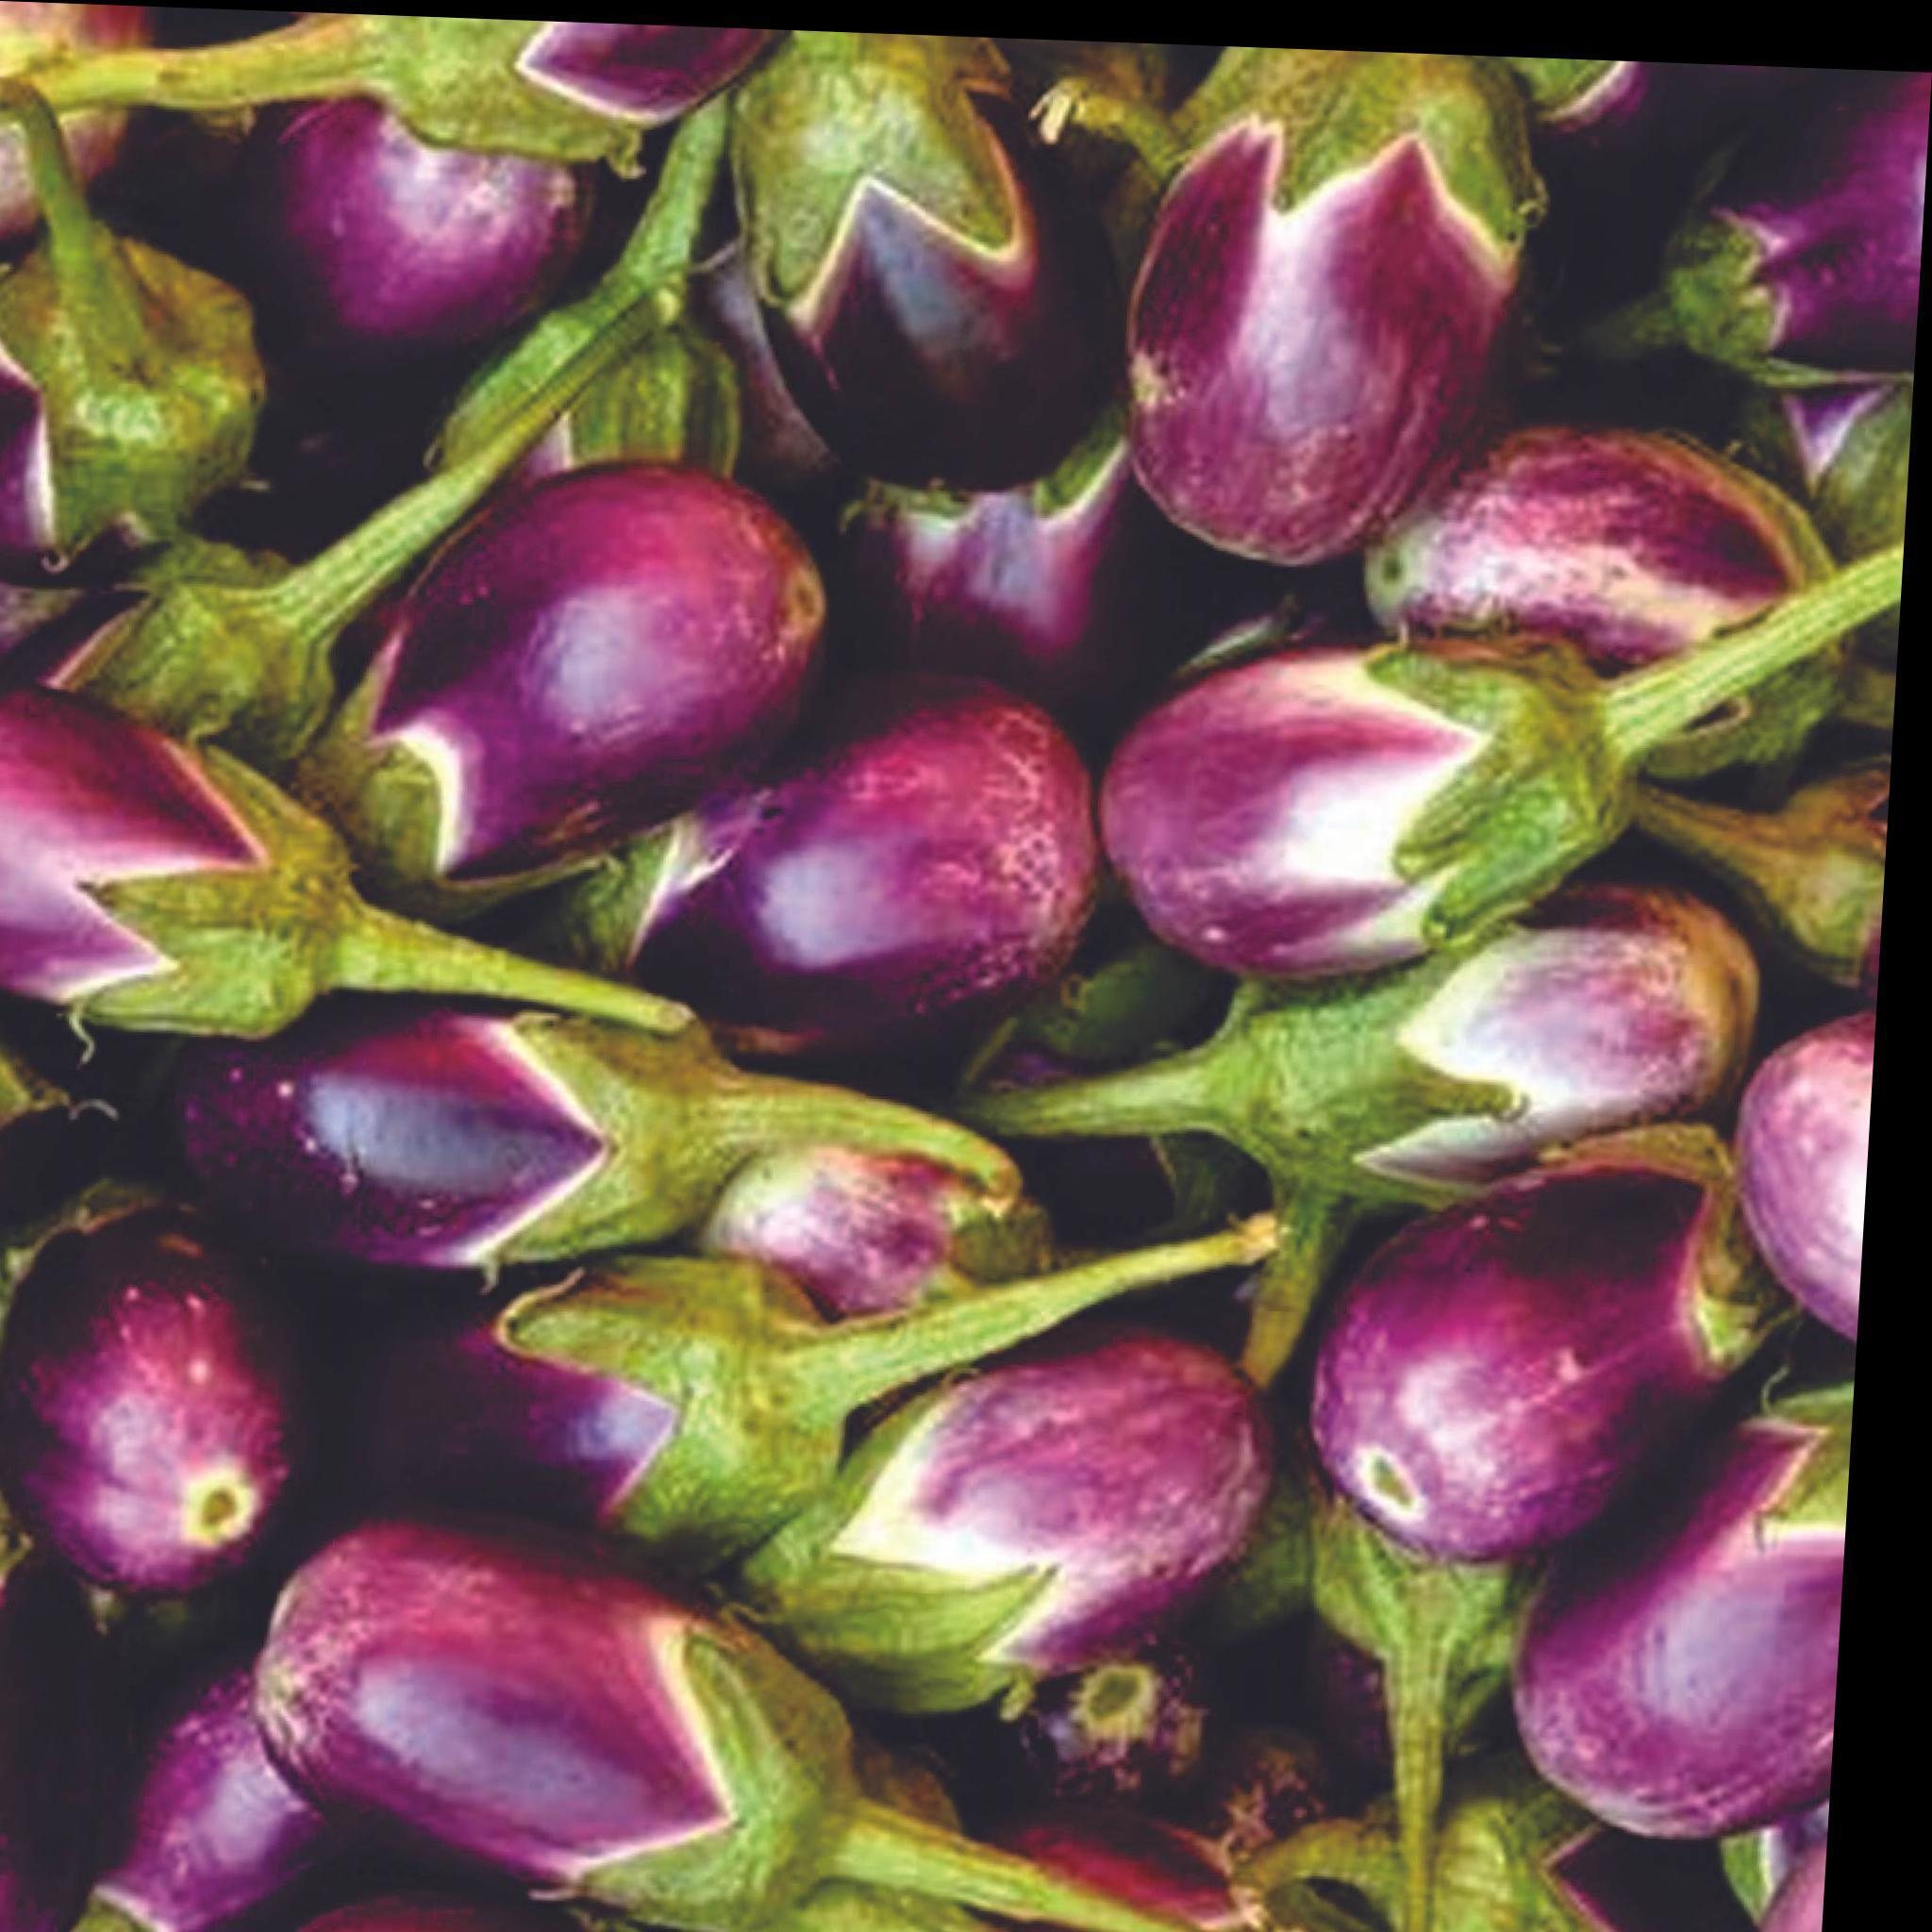eggplant: (0, 2, 1923, 1930)
